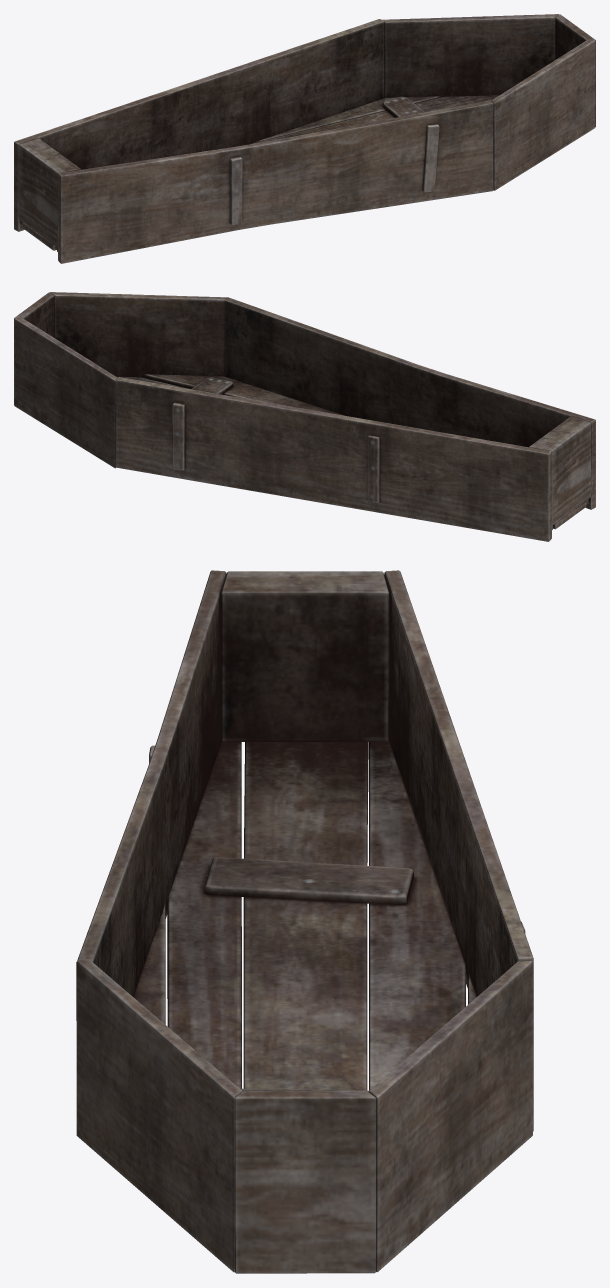
File: SM_CoffinsA_002.fbx
The picture shows the model from 3 angles, top to bottom: view 1: azimuth 30°, elevation 25°; view 2: azimuth 150°, elevation 25°; view 3: azimuth 270°, elevation 25°; orthographic projection. The views are drawn at different scales.
Parts seen in each view (by area): view 1: SM_CoffinsA_002_LOD0; view 2: SM_CoffinsA_002_LOD0; view 3: SM_CoffinsA_002_LOD0.
Boxes of the visible parts, x1=… form: SM_CoffinsA_002_LOD0: x1=14, y1=14, x2=595, y2=263; SM_CoffinsA_002_LOD0: x1=14, y1=292, x2=595, y2=541; SM_CoffinsA_002_LOD0: x1=76, y1=570, x2=533, y2=1273.
Bounding box in the file's own units: 192 × 70.38 × 30.39.
Materials: 1 (1 with a texture image).
